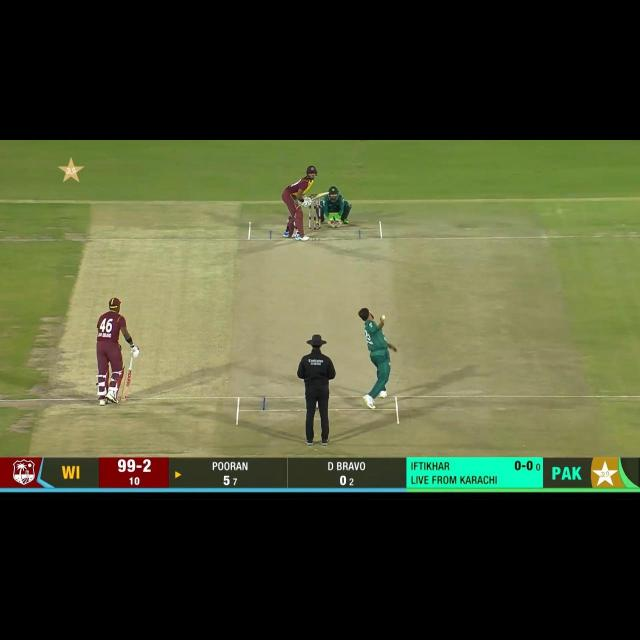bat: (119, 367, 132, 406), (308, 191, 330, 199)
toe: (119, 398, 128, 404), (325, 192, 329, 197)
